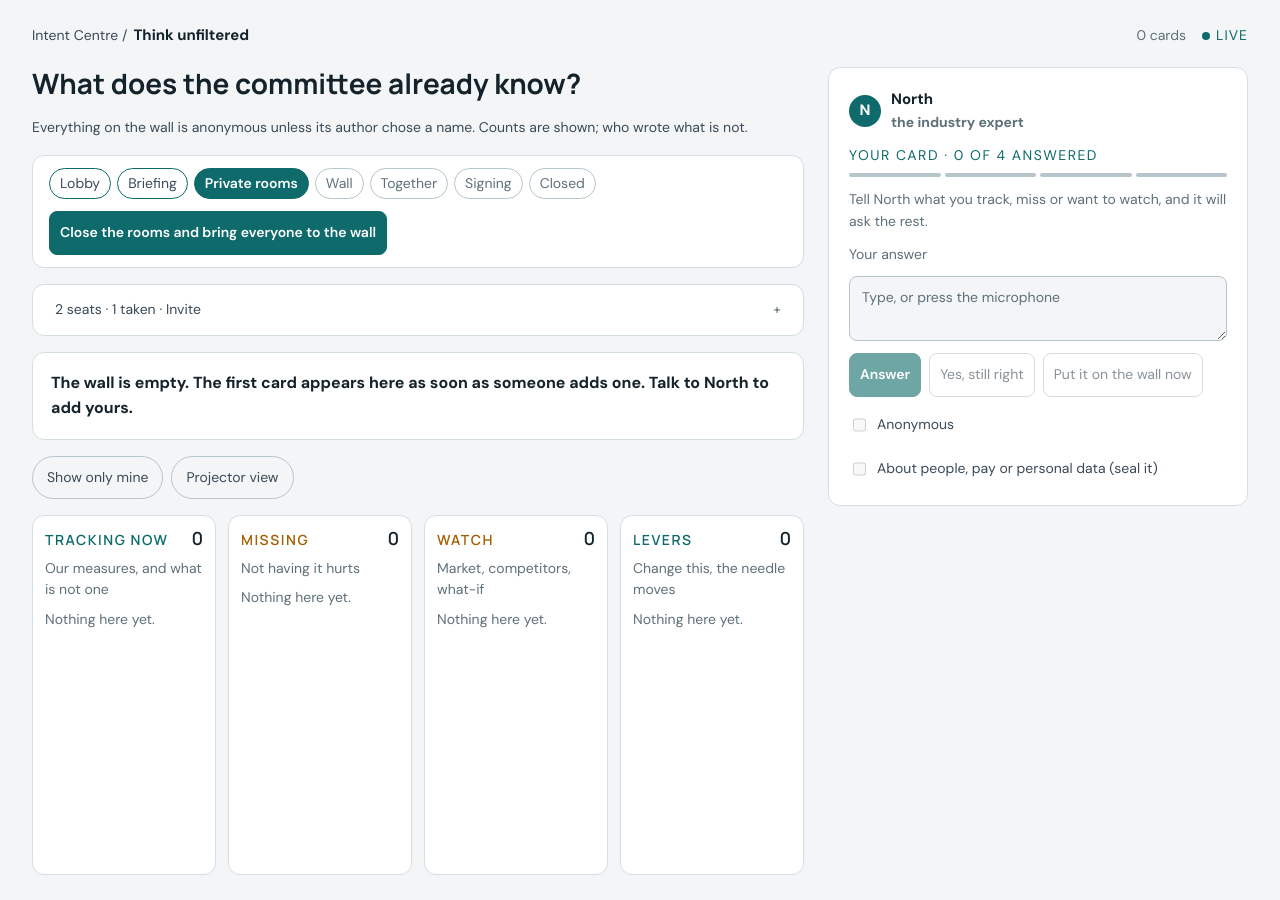
Test: organiser and phone › invite panel: one line, then the link, new link and the seats
Click the button "2 seats · 1 taken · Invite". click: (128, 309)
box: [45, 289, 791, 331]
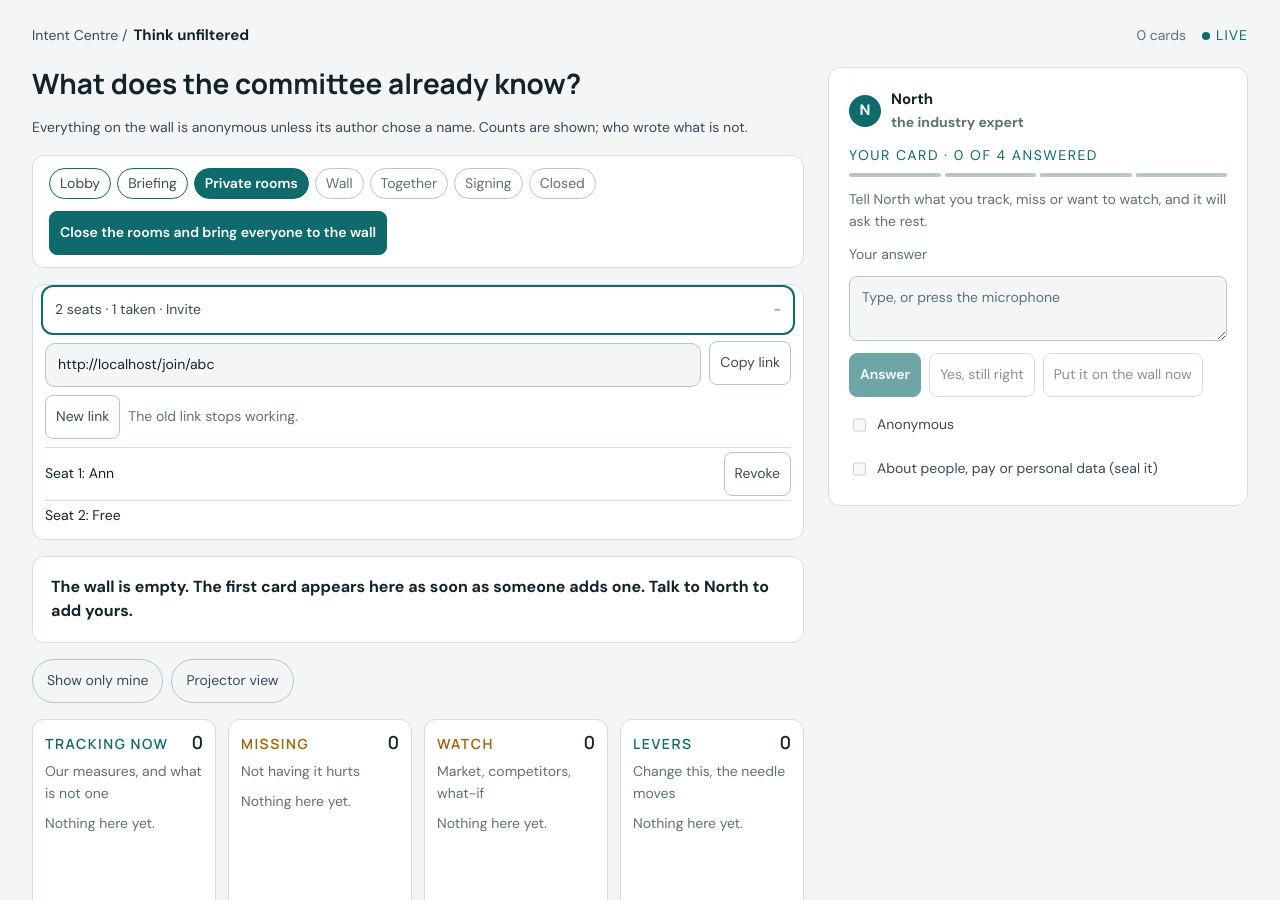
Expected: the button "New link" is shown, [45, 395, 120, 439]
